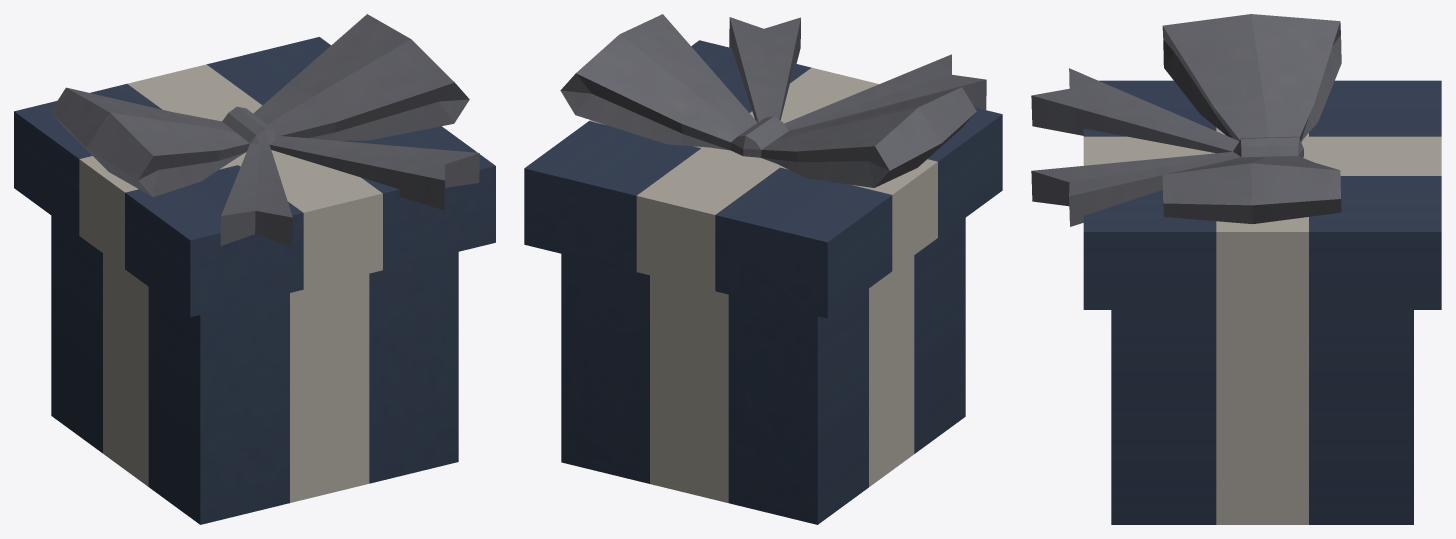
Rendered from gift_box_C_Small.obj.
3 renders of one model, left to right at view 1: azimuth 30°, elevation 25°; view 2: azimuth 150°, elevation 25°; view 3: azimuth 270°, elevation 25°, orthographic. The views are drawn at different scales.
Visible parts, largest first — view 1: gift_box_C_Small; view 2: gift_box_C_Small; view 3: gift_box_C_Small.
Part boxes in pixels (x1,y1,x2,y2): gift_box_C_Small: (14,14,495,524); gift_box_C_Small: (524,14,1002,524); gift_box_C_Small: (1031,14,1441,524).
Size of the model in its own units: 0.4318 by 0.4346 by 0.4337.
